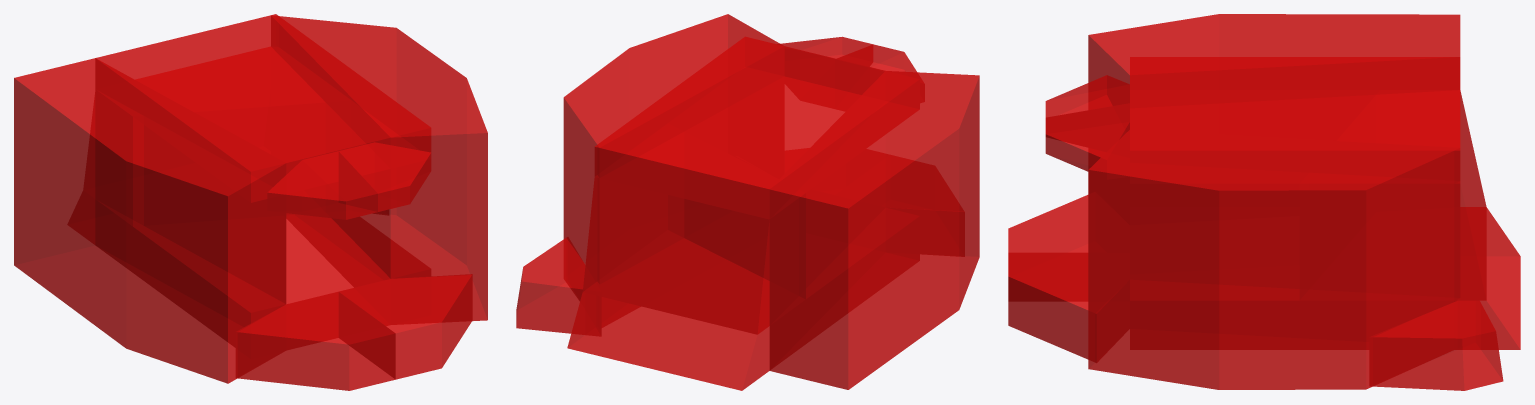
File: SM_Bld_Bunker_Gun_Damaged_01_Collision.fbx
The picture shows the model from 3 angles, left to right: view 1: azimuth 30°, elevation 25°; view 2: azimuth 150°, elevation 25°; view 3: azimuth 270°, elevation 25°; orthographic projection. The views are drawn at different scales.
Parts seen in each view (by area): view 1: SM_Bld_Bunker_Gun_Damaged_01_Collision; view 2: SM_Bld_Bunker_Gun_Damaged_01_Collision; view 3: SM_Bld_Bunker_Gun_Damaged_01_Collision.
Part boxes in pixels (<box>): SM_Bld_Bunker_Gun_Damaged_01_Collision: <box>14,14,487,390</box>; SM_Bld_Bunker_Gun_Damaged_01_Collision: <box>516,14,979,390</box>; SM_Bld_Bunker_Gun_Damaged_01_Collision: <box>1008,14,1520,390</box>.
Bounding box in the file's own units: 1035 × 542 × 1262.
